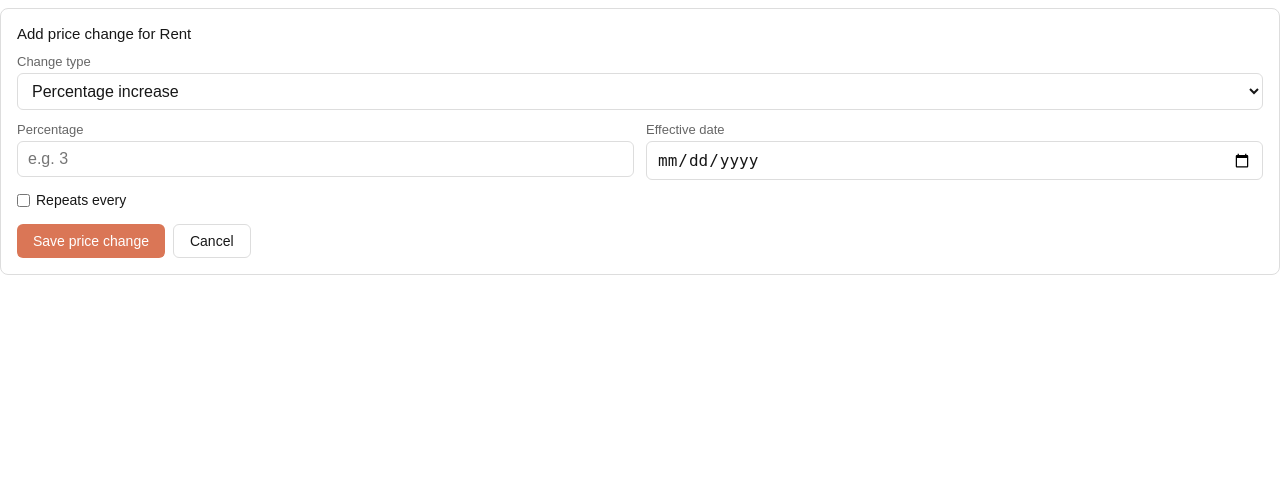
Test case: EscalationForm › shows multiple preview steps for recurring
Type "3" into the number field labelled "Percentage" at (326, 159), box [17,141,634,177]
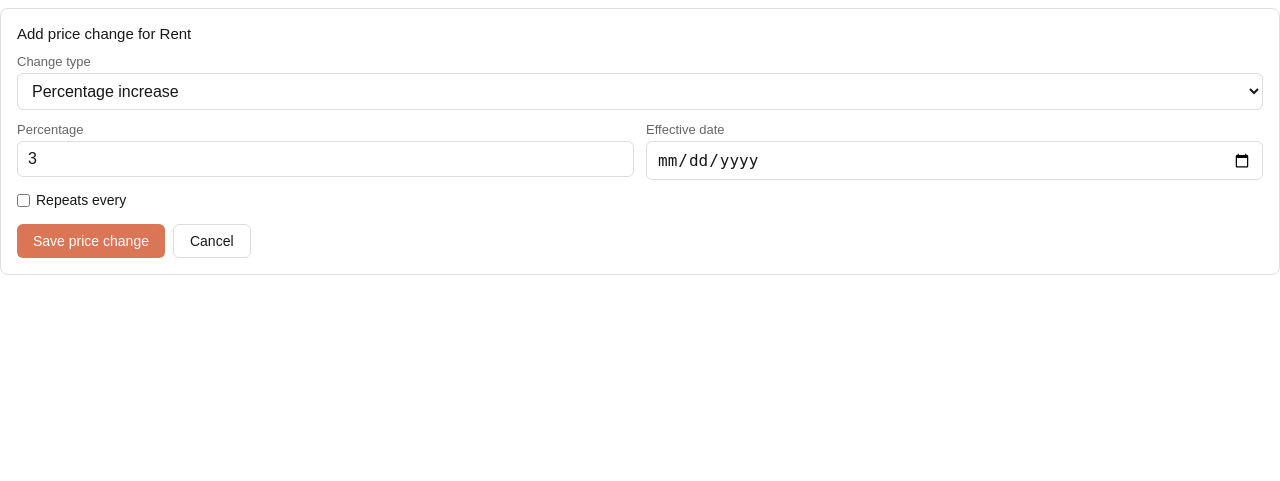
Type "2027-01-01" into the date field labelled "Effective date" at (954, 160), box [646,141,1263,180]
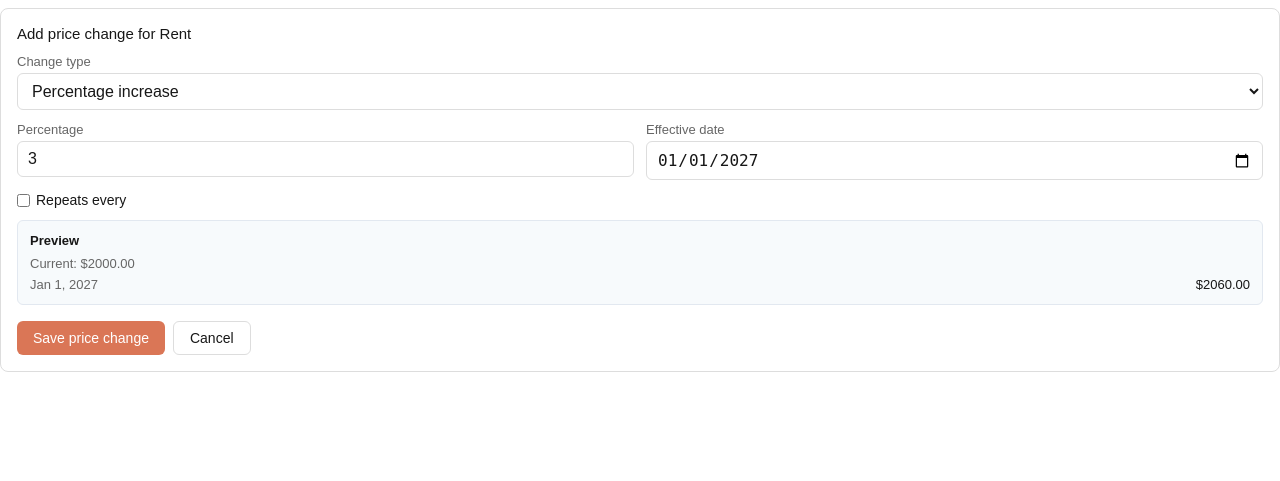
// Toggle recurring
Click the checkbox with test id "recurring-toggle" at (24, 200), box [17,194,30,206]
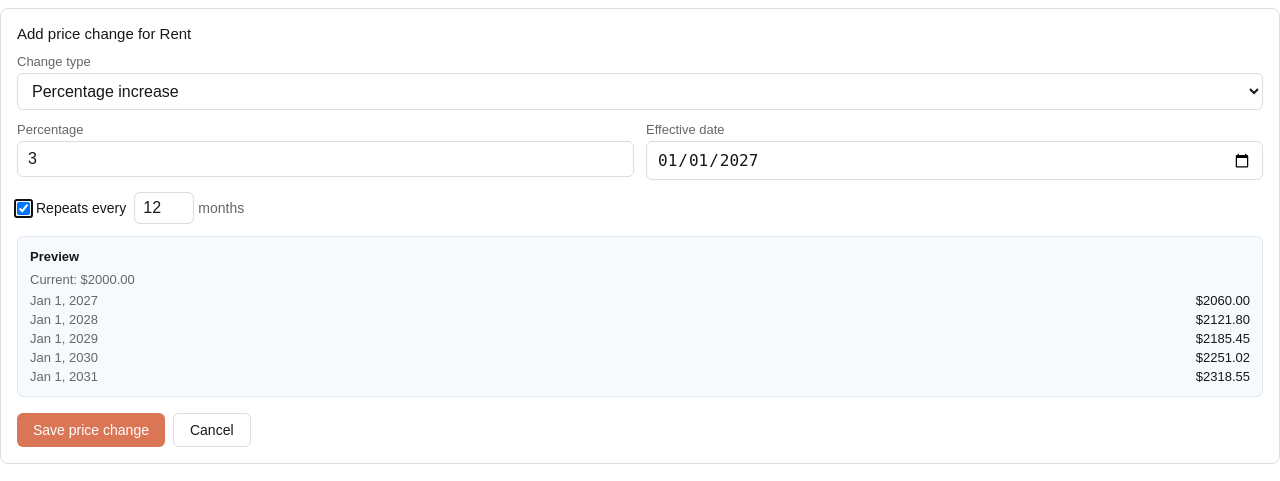
Expected: the element with test id "escalation-preview" is shown, [17,236,1263,397]
Expected: the text "$2060.00" is shown, [1196,293,1250,308]
Expected: the number of list items is 5, [30,293,1250,308]; [30,312,1250,327]; [30,331,1250,346]; [30,350,1250,365]; [30,369,1250,384]
